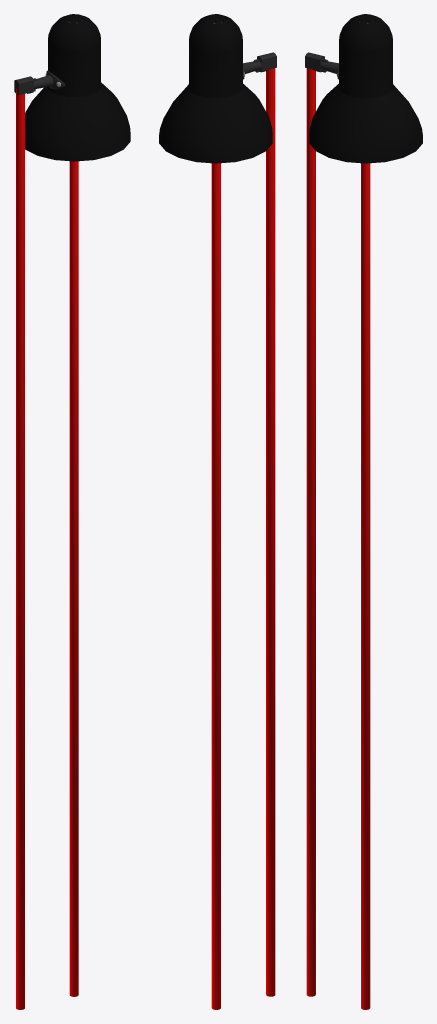
The model's file is debugHead.obj.
3 views of the same model, side by side, from view 1: azimuth 30°, elevation 25°; view 2: azimuth 210°, elevation 25°; view 3: azimuth 330°, elevation 25° (orthographic).
Parts seen in each view (by area): view 1: Cylinder005, Sphere020, Sphere020.001, Box010; view 2: Cylinder005, Sphere020.001, Sphere020; view 3: Cylinder005, Sphere020.001, Sphere020.
Part boxes in pixels (<box>): Cylinder005: <box>25,14,130,161</box>; Sphere020: <box>69,161,78,996</box>; Sphere020.001: <box>16,88,24,1009</box>; Box010: <box>14,76,33,94</box>; Cylinder005: <box>159,14,272,163</box>; Sphere020.001: <box>266,68,275,996</box>; Sphere020: <box>211,163,220,1009</box>; Cylinder005: <box>309,14,422,163</box>; Sphere020.001: <box>306,68,315,996</box>; Sphere020: <box>361,163,370,1009</box>.
Size of the model in its own units: 0.1341 by 1.17 by 0.1214.
